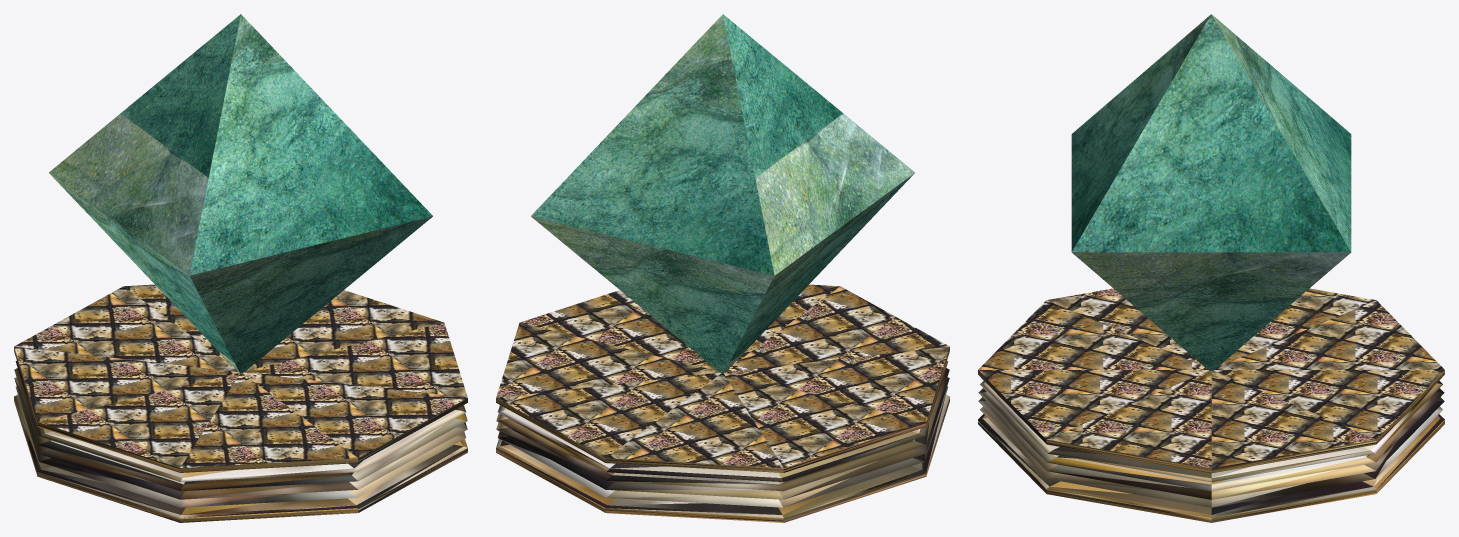
File: DiamondStatue.FBX
The picture shows the model from 3 angles, left to right: view 1: azimuth 30°, elevation 25°; view 2: azimuth 150°, elevation 25°; view 3: azimuth 270°, elevation 25°; orthographic projection.
Parts seen in each view (by area): view 1: Hose001, Hedra001; view 2: Hose001, Hedra001; view 3: Hose001, Hedra001.
Part boxes in pixels (x1=…): Hose001: x1=14, y1=284, x2=467, y2=522; Hedra001: x1=49, y1=14, x2=432, y2=373; Hose001: x1=496, y1=284, x2=949, y2=522; Hedra001: x1=531, y1=14, x2=914, y2=373; Hose001: x1=978, y1=288, x2=1444, y2=522; Hedra001: x1=1071, y1=14, x2=1351, y2=370.
Bounding box in the file's own units: 73.5 × 71.3 × 73.5.
Materials: 2 (2 with a texture image).
